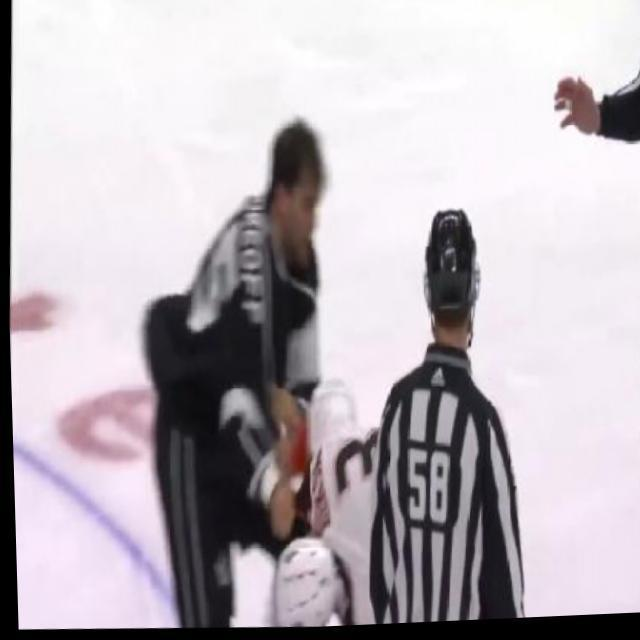fight: (126, 72, 389, 636)
